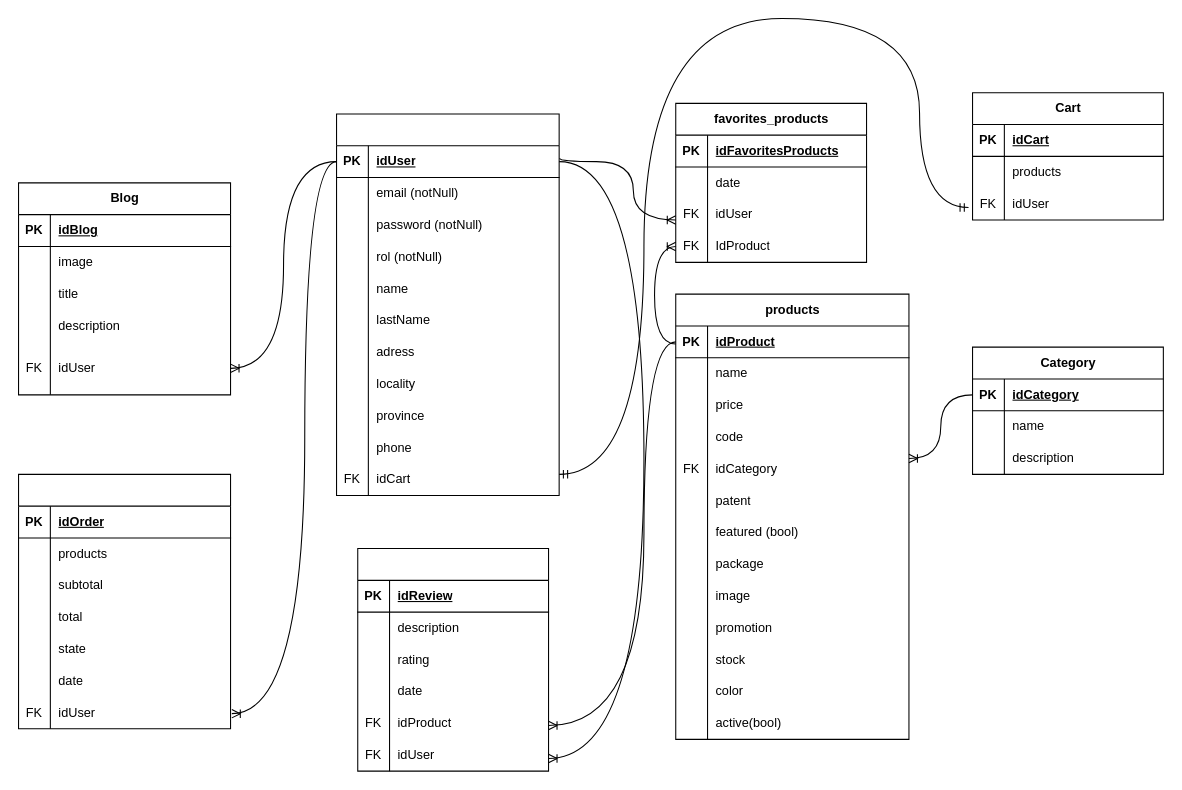
This 1182x790 diagram has some shape labels left out. Here are the shapes that lost their labels. From the top down, the box of each, then its label:
(335, 113, 559, 496): users
(17, 473, 231, 729): orders
(357, 547, 549, 771): reviews
